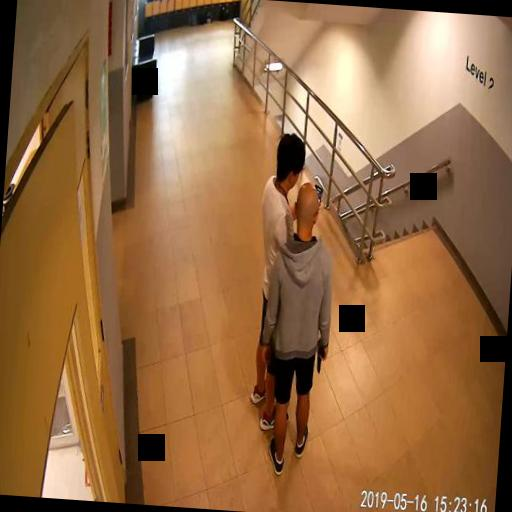Handgun: (314, 338, 328, 372)
